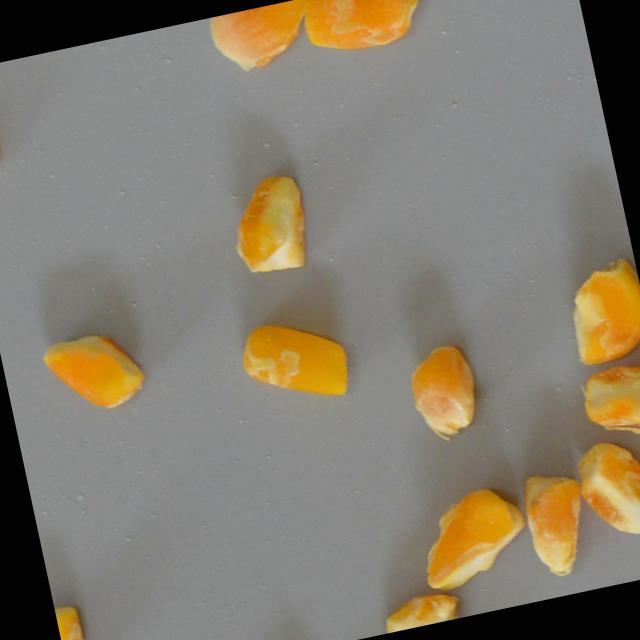estandar: (38, 321, 149, 420)
pelicula: (407, 477, 534, 592), (234, 306, 358, 414), (222, 168, 316, 280), (515, 463, 597, 581), (560, 254, 640, 364), (401, 338, 486, 441), (205, 0, 320, 75), (296, 0, 434, 60), (568, 433, 640, 544), (576, 357, 640, 443), (376, 585, 467, 634), (54, 600, 91, 640)
